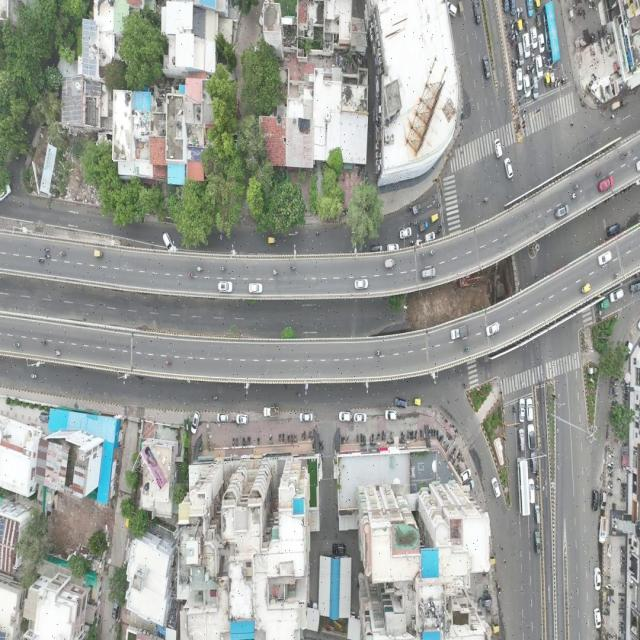3W: (578, 280, 593, 298), (472, 0, 481, 25), (92, 248, 107, 260), (265, 233, 278, 246), (609, 98, 621, 112), (456, 0, 465, 17), (620, 96, 631, 108), (490, 622, 500, 634), (544, 72, 551, 88), (430, 212, 439, 224), (412, 396, 422, 406), (550, 70, 555, 89), (535, 14, 541, 28), (517, 19, 522, 34), (489, 558, 496, 568), (125, 517, 130, 529)
Bus: (541, 1, 561, 67), (517, 454, 531, 518)
Cars: (215, 278, 235, 297), (595, 176, 617, 193), (595, 249, 614, 268), (597, 514, 609, 544), (483, 320, 502, 338), (481, 52, 492, 82), (526, 423, 537, 451), (489, 475, 501, 500), (552, 204, 570, 220), (162, 232, 176, 252), (502, 157, 514, 180), (605, 222, 622, 238), (593, 565, 602, 595), (530, 75, 540, 101), (248, 281, 264, 297), (533, 528, 542, 556), (353, 278, 371, 292), (190, 410, 200, 435), (599, 488, 609, 513), (331, 542, 347, 557), (517, 427, 526, 452), (420, 266, 436, 280), (522, 31, 530, 59), (493, 138, 503, 160), (591, 488, 600, 512), (446, 0, 457, 19), (526, 396, 534, 422), (608, 290, 624, 303), (523, 73, 531, 99), (111, 597, 120, 620), (592, 606, 601, 629), (518, 397, 526, 422), (515, 67, 523, 92), (533, 503, 542, 525), (528, 477, 535, 505), (353, 411, 368, 424), (399, 225, 412, 240), (298, 412, 314, 424), (628, 280, 640, 296), (530, 26, 538, 49), (338, 410, 352, 423), (384, 408, 397, 422), (459, 469, 472, 483), (517, 41, 524, 66), (394, 396, 407, 409), (478, 597, 492, 609), (537, 33, 545, 54), (530, 451, 537, 474), (536, 55, 543, 78), (236, 412, 248, 425), (525, 0, 534, 17), (369, 243, 384, 252), (424, 231, 436, 242), (216, 413, 229, 423), (386, 242, 399, 251), (509, 0, 516, 15), (535, 482, 540, 491)
LCV: (450, 323, 472, 342), (262, 406, 280, 418), (596, 298, 610, 310), (383, 257, 396, 269), (411, 202, 422, 215), (418, 221, 429, 232)
M2W: (59, 249, 68, 259), (270, 266, 279, 276), (289, 262, 299, 271), (215, 231, 224, 241), (29, 371, 38, 380), (164, 359, 173, 368), (462, 345, 471, 354), (196, 265, 205, 274), (572, 183, 581, 192), (373, 350, 383, 358), (570, 191, 578, 201), (38, 256, 46, 265), (186, 270, 194, 279), (612, 272, 621, 280), (314, 228, 322, 237), (581, 7, 587, 19), (38, 339, 48, 346), (510, 30, 516, 41), (445, 441, 450, 454), (597, 27, 602, 40), (517, 94, 522, 107), (506, 31, 511, 44), (620, 152, 628, 160), (44, 245, 51, 254), (219, 265, 228, 272), (595, 310, 604, 317), (497, 584, 502, 596), (592, 30, 597, 42), (588, 32, 594, 42), (428, 248, 435, 256), (595, 170, 602, 178), (561, 74, 565, 88), (601, 24, 605, 38), (441, 437, 446, 448), (44, 254, 53, 260), (434, 201, 440, 210), (576, 9, 582, 18), (522, 108, 526, 121), (557, 75, 561, 88), (295, 392, 302, 399), (618, 619, 625, 626), (618, 629, 625, 636), (13, 341, 20, 348), (622, 441, 629, 448), (482, 197, 489, 204), (268, 433, 272, 445), (308, 428, 312, 440), (439, 432, 443, 444), (620, 547, 626, 555), (620, 582, 626, 590), (618, 607, 626, 613), (604, 583, 612, 589), (607, 462, 615, 468), (512, 404, 516, 416), (514, 29, 518, 41), (525, 19, 529, 31), (516, 6, 520, 18), (514, 17, 518, 29), (414, 429, 418, 440), (511, 56, 515, 67), (504, 18, 508, 29), (522, 16, 526, 27), (483, 588, 489, 595), (604, 600, 610, 607), (607, 479, 614, 485), (54, 350, 61, 356), (409, 240, 416, 246), (437, 222, 444, 228), (232, 436, 236, 446), (247, 436, 251, 446), (300, 430, 304, 440), (376, 431, 380, 441), (402, 430, 406, 440), (450, 453, 454, 463), (452, 458, 457, 466), (622, 393, 630, 398), (622, 389, 630, 394), (512, 69, 516, 79), (514, 58, 518, 68), (511, 38, 514, 51), (212, 395, 218, 401), (278, 433, 282, 442), (431, 426, 434, 438), (433, 427, 436, 439), (453, 446, 457, 455), (619, 596, 625, 602), (620, 485, 626, 491), (607, 491, 613, 497), (607, 484, 613, 490), (612, 399, 618, 405), (621, 386, 630, 390), (407, 220, 413, 226), (436, 228, 442, 234), (511, 18, 514, 30), (484, 583, 489, 590), (620, 561, 627, 566), (620, 481, 627, 486), (356, 433, 359, 444), (371, 431, 374, 442), (381, 430, 384, 441), (411, 429, 414, 440), (428, 427, 431, 438), (436, 429, 439, 440), (532, 63, 535, 74), (528, 30, 531, 41), (520, 6, 523, 17), (606, 474, 614, 478), (606, 470, 614, 474), (235, 436, 238, 446), (242, 436, 245, 446), (245, 436, 248, 446), (282, 433, 285, 443), (319, 440, 322, 450), (343, 434, 346, 444), (420, 428, 423, 438), (620, 498, 626, 503), (608, 454, 614, 459), (414, 220, 419, 226), (542, 56, 545, 66), (532, 52, 535, 62), (529, 62, 532, 72), (526, 64, 529, 74), (530, 42, 533, 52), (620, 494, 627, 498), (622, 397, 629, 401), (592, 3, 596, 10), (257, 436, 260, 445), (294, 433, 297, 442), (341, 435, 344, 444), (346, 434, 349, 443), (409, 430, 412, 439), (288, 433, 290, 445), (620, 556, 626, 560), (620, 490, 626, 494), (482, 573, 488, 577), (535, 272, 538, 280), (623, 401, 629, 405), (555, 77, 557, 89), (322, 439, 324, 450), (458, 456, 461, 463), (607, 467, 614, 470), (291, 433, 293, 443), (304, 430, 306, 440), (360, 433, 362, 443)
